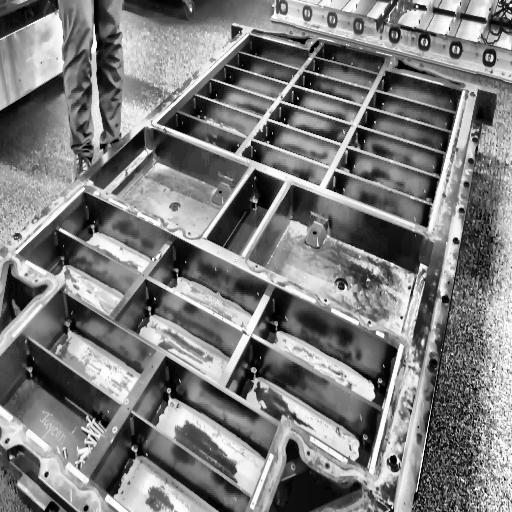b_casing: (0, 29, 498, 512)
